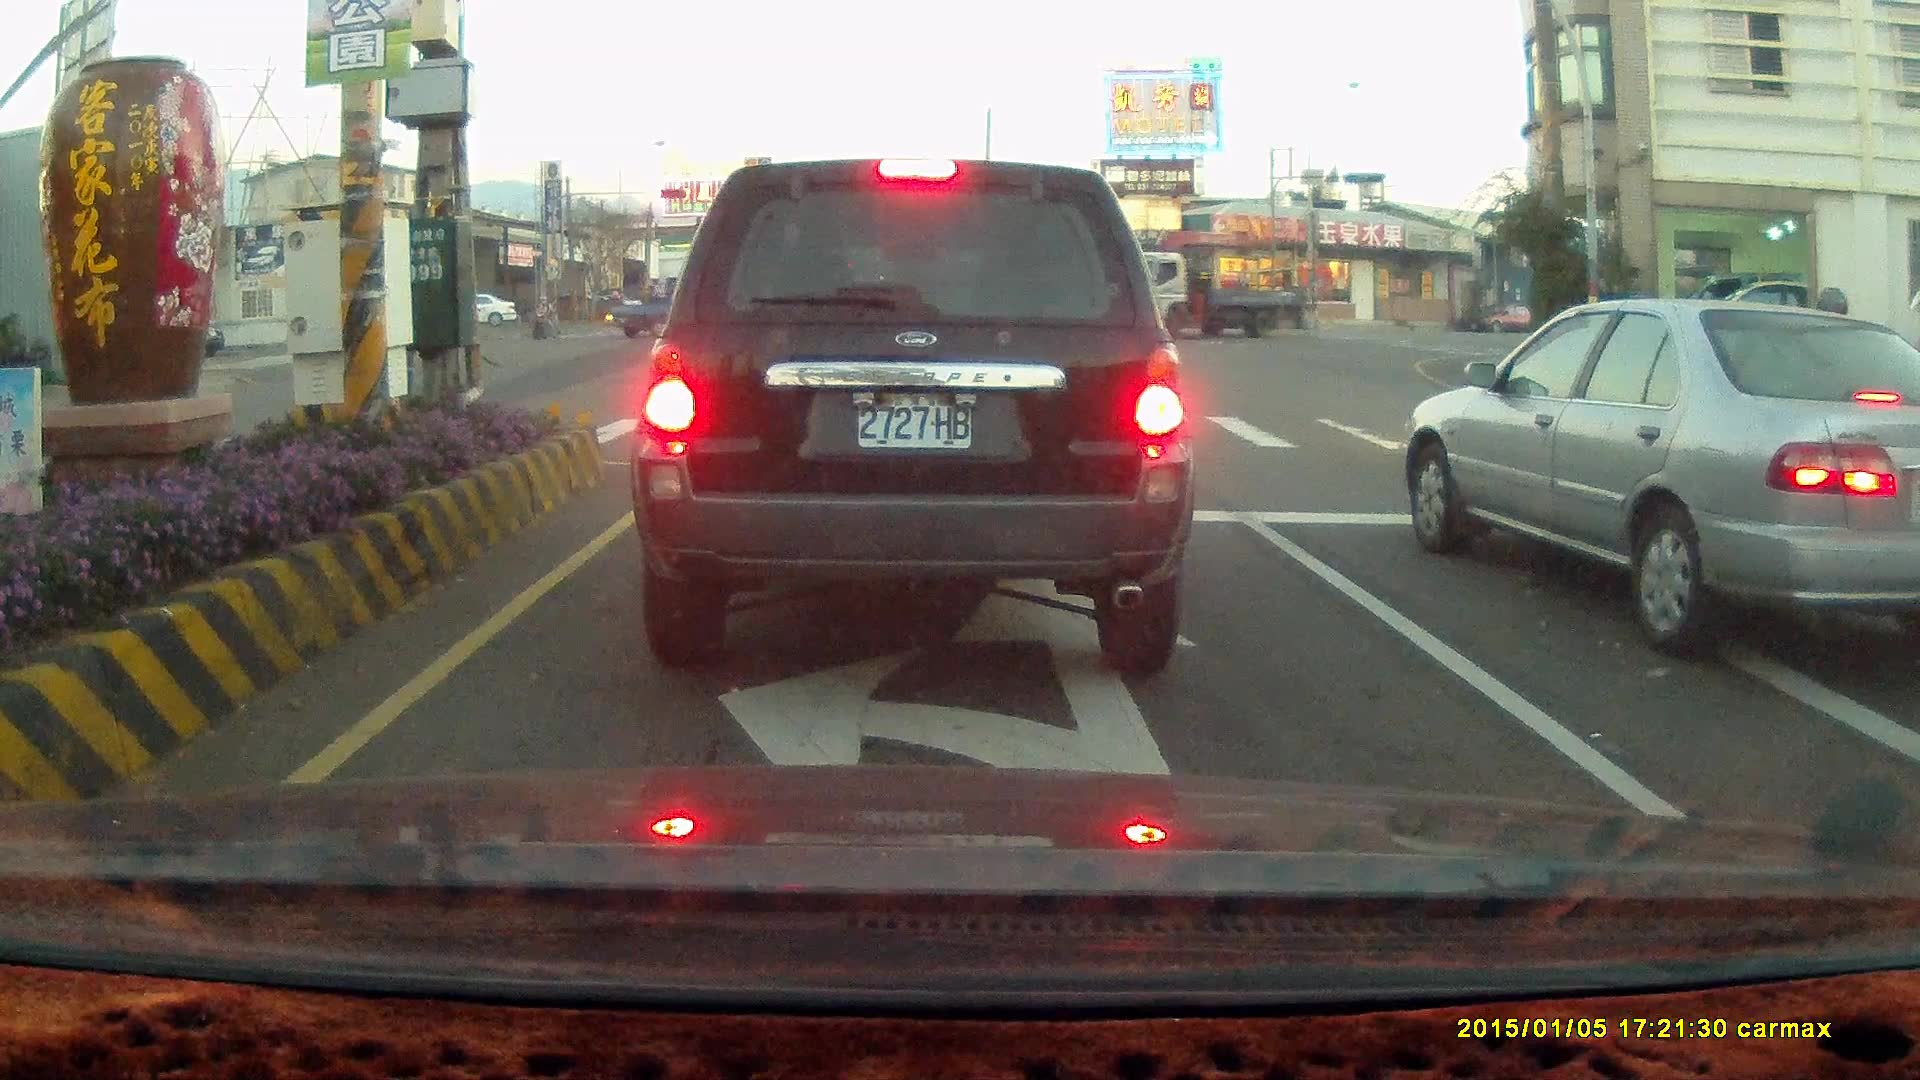rider: (528, 290, 558, 337)
vehicle: (627, 156, 1196, 679), (1384, 294, 1920, 647), (1400, 300, 1920, 644), (1094, 252, 1298, 351), (831, 254, 1024, 343), (758, 279, 910, 377), (1654, 275, 1801, 364), (1896, 493, 1920, 836), (604, 274, 723, 343)
